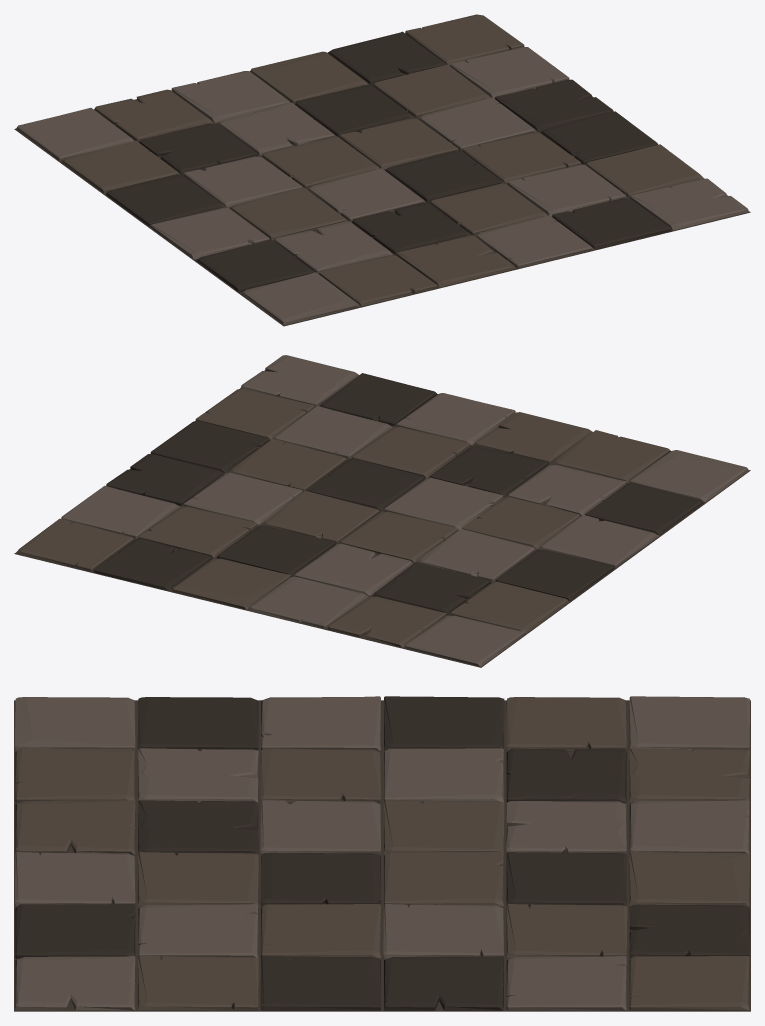
File: Slab1.glb
3 views of the same model, one above another, from view 1: azimuth 30°, elevation 25°; view 2: azimuth 150°, elevation 25°; view 3: azimuth 270°, elevation 25° (orthographic). The views are drawn at different scales.
Parts seen in each view (by area): view 1: world; view 2: world; view 3: world.
Part boxes in pixels (x1=…): world: x1=14, y1=14, x2=750, y2=326; world: x1=14, y1=355, x2=750, y2=667; world: x1=14, y1=696, x2=750, y2=1011.
Size of the model in its own units: 600 by 4.88 by 600.
